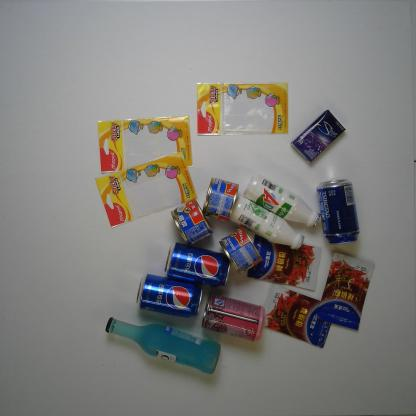Alcohol: (105, 317, 221, 375), (315, 177, 360, 245)
Canned Food: (200, 291, 266, 343), (170, 198, 214, 247), (219, 227, 262, 275), (201, 178, 240, 224)
Drink: (165, 242, 233, 288), (136, 273, 204, 318)
Gum: (291, 110, 346, 163)
Milk: (244, 174, 321, 230), (229, 196, 304, 252)
Seasoner: (260, 284, 335, 348), (317, 252, 376, 330), (248, 232, 322, 290)
Stationery: (94, 151, 198, 229), (97, 115, 193, 174), (197, 82, 289, 136)
